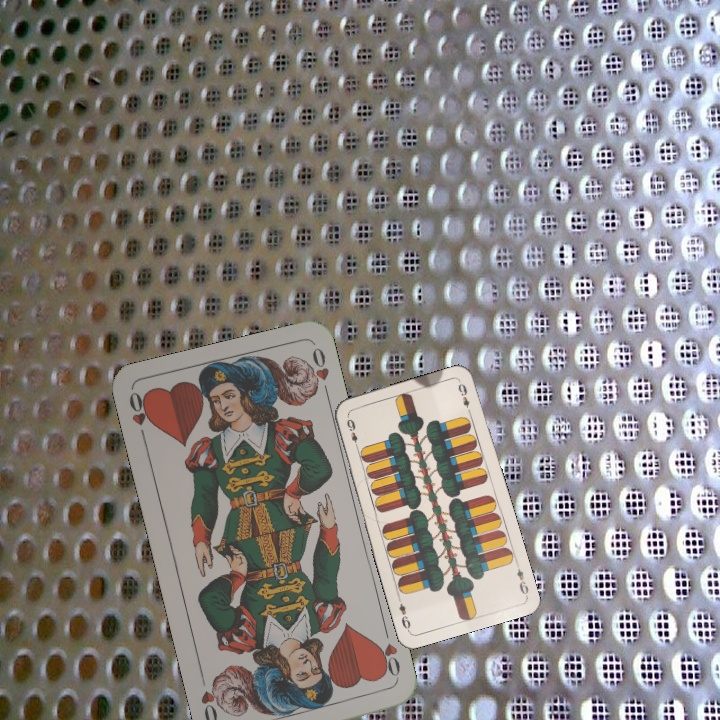E9: (342, 412, 361, 452), (512, 559, 531, 599)
HO: (372, 625, 403, 684), (125, 388, 154, 447)
